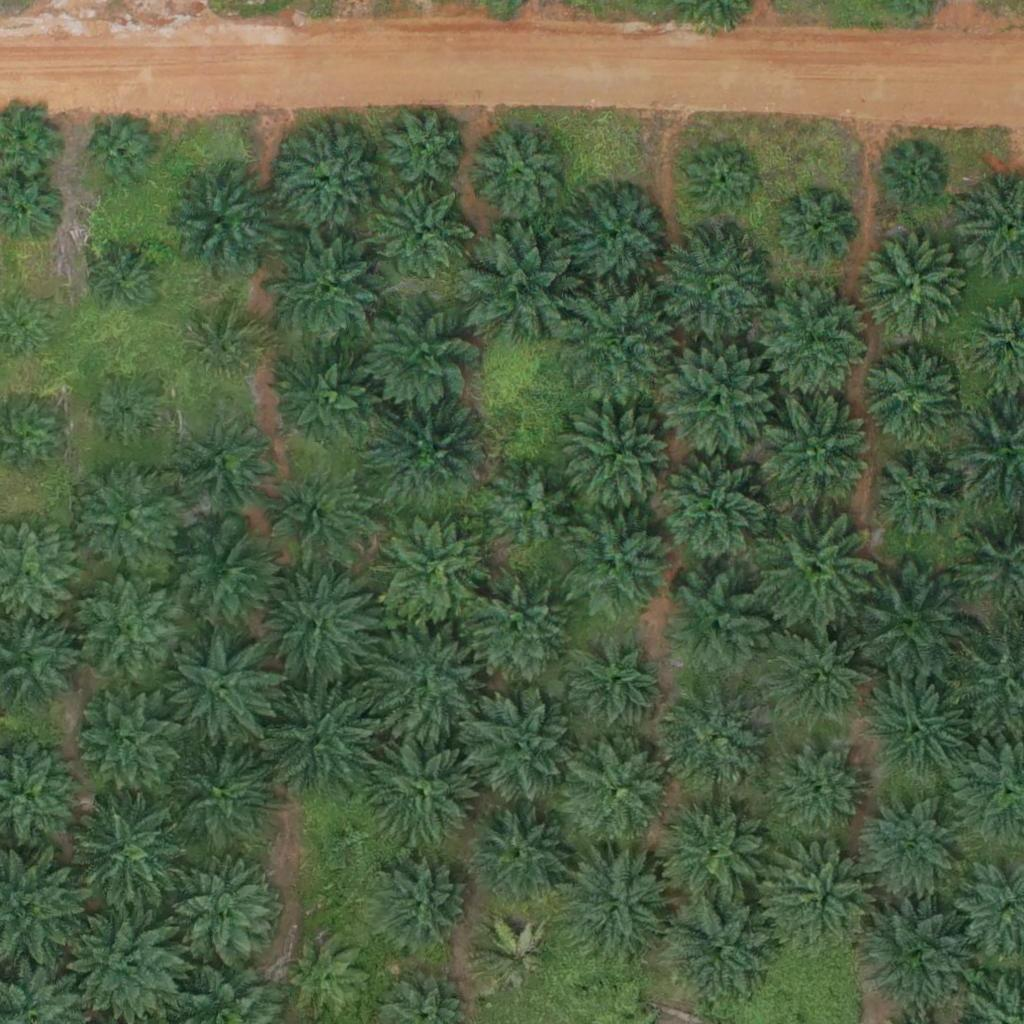Kelapa_Sawit: (157, 161, 282, 287), (159, 627, 284, 753), (264, 222, 389, 348), (359, 292, 484, 418), (456, 225, 581, 351), (559, 284, 684, 410), (653, 449, 778, 575), (754, 391, 879, 517), (753, 506, 878, 632), (849, 562, 974, 688), (157, 849, 282, 975), (61, 789, 186, 915), (565, 402, 678, 516), (864, 892, 977, 1006), (657, 687, 770, 801), (167, 518, 280, 631), (263, 572, 376, 685), (563, 507, 676, 620), (556, 625, 669, 738), (657, 573, 770, 686), (757, 284, 870, 397), (767, 847, 880, 960), (657, 796, 770, 909), (661, 897, 774, 1010), (365, 732, 478, 845), (361, 845, 474, 958), (259, 684, 372, 797), (660, 340, 772, 454), (765, 619, 877, 733), (73, 458, 185, 571), (75, 573, 187, 686), (273, 344, 385, 457), (260, 460, 372, 573), (372, 397, 484, 510), (377, 516, 489, 629), (370, 626, 482, 739), (458, 571, 570, 684), (655, 225, 767, 338), (562, 736, 674, 849), (561, 850, 673, 963), (462, 687, 574, 800), (164, 737, 276, 850), (73, 689, 185, 802), (274, 125, 374, 226), (862, 234, 962, 335), (861, 349, 961, 450), (373, 182, 473, 282), (563, 188, 663, 288), (868, 445, 968, 545), (867, 676, 967, 776), (858, 797, 958, 897), (765, 743, 865, 843), (470, 914, 558, 1003), (487, 463, 575, 551), (477, 815, 565, 903), (182, 416, 269, 504), (379, 103, 466, 191), (473, 129, 560, 217), (684, 146, 759, 222), (188, 309, 263, 384), (781, 190, 856, 265), (82, 115, 157, 190), (85, 245, 160, 320), (91, 375, 166, 450), (882, 144, 945, 207)
